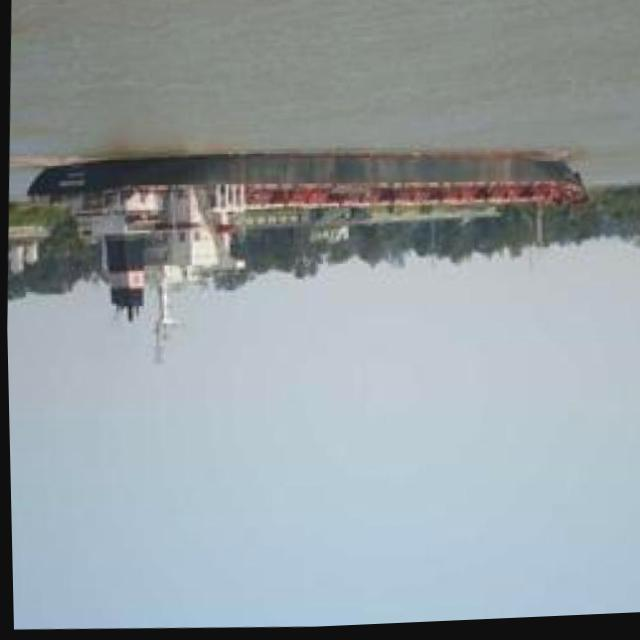ship2: (25, 151, 588, 372)
